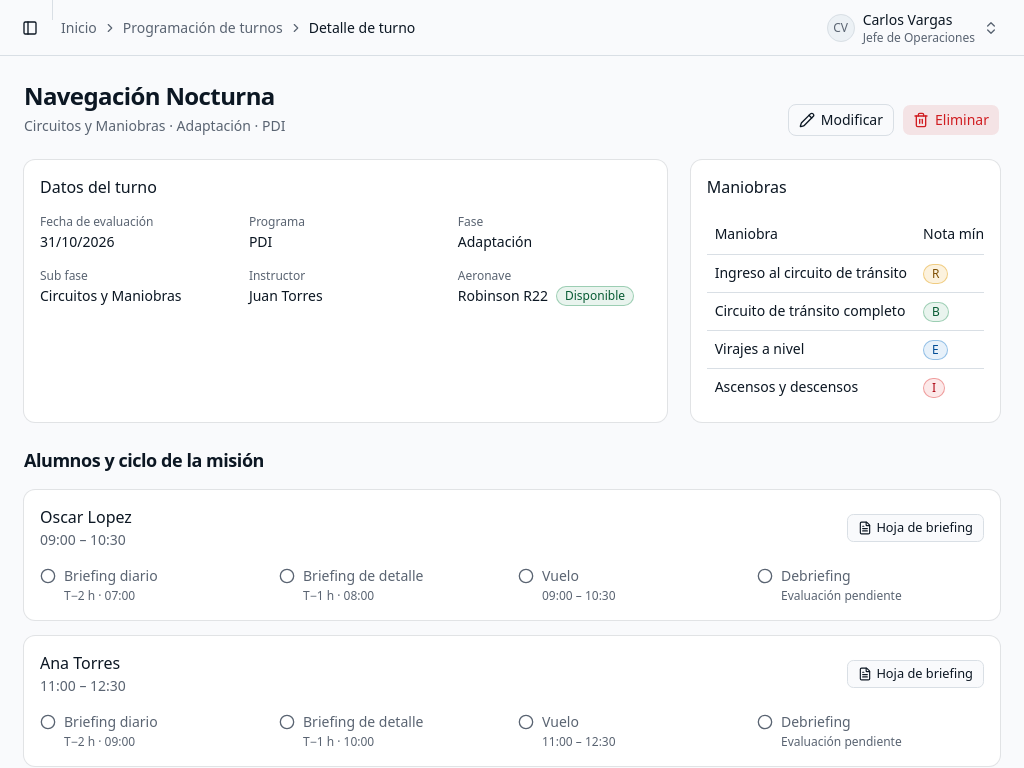
Detalle de turno › CA-TUR-11 eliminar pide confirmación y vuelve a la programación
Expected: the heading "Alumnos y ciclo de la misión" is shown, [24,448,264,472]
Click the button "Eliminar": (951,120) [902,104,1000,136]
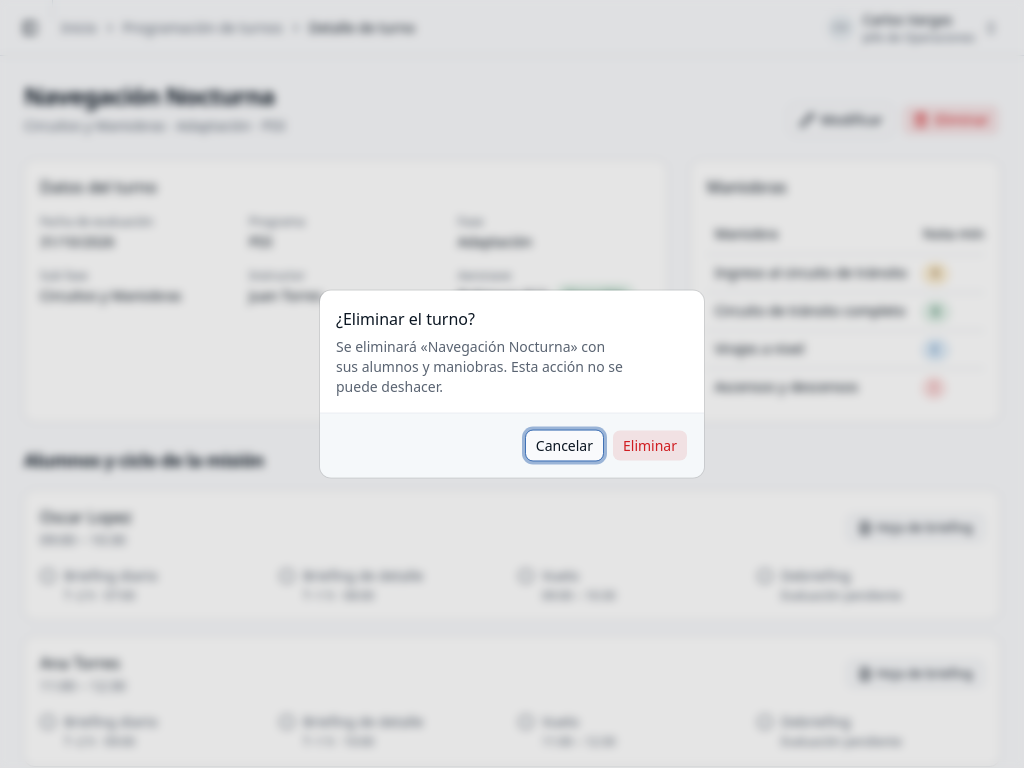
Now the dialog shows "Se eliminará «Navegación Nocturna»", box [336,336,623,396]
Click the button "Eliminar": (650,446) [612,430,688,462]
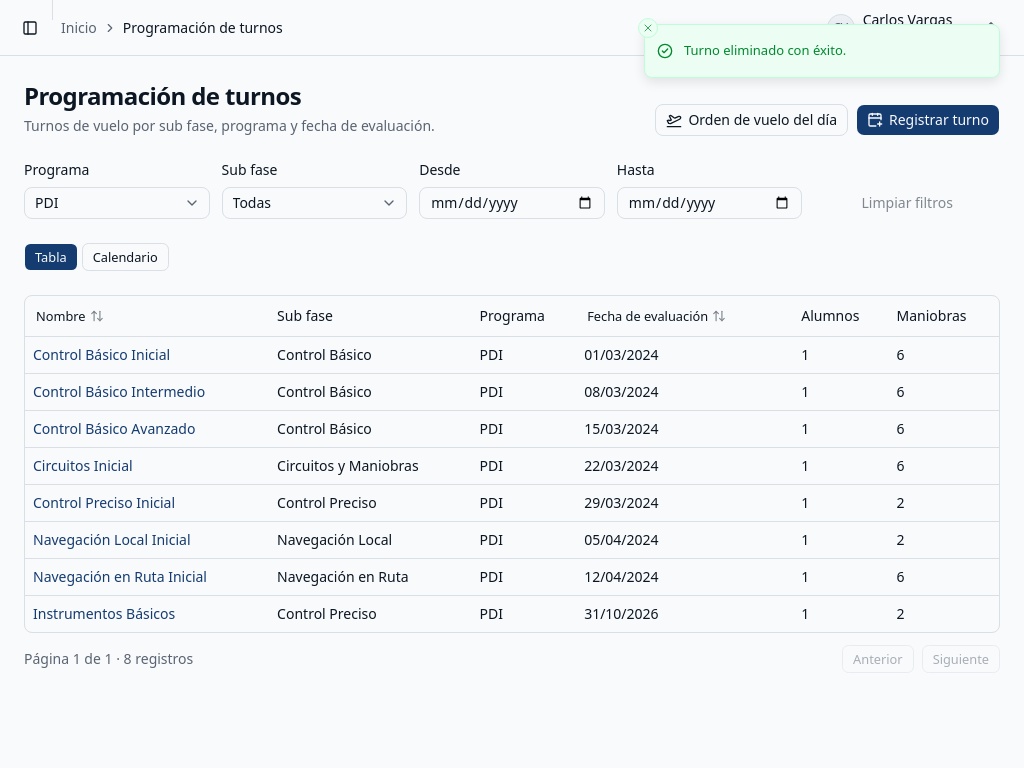
Now the text "Turno eliminado con éxito." is shown, box [684,41,846,60]
